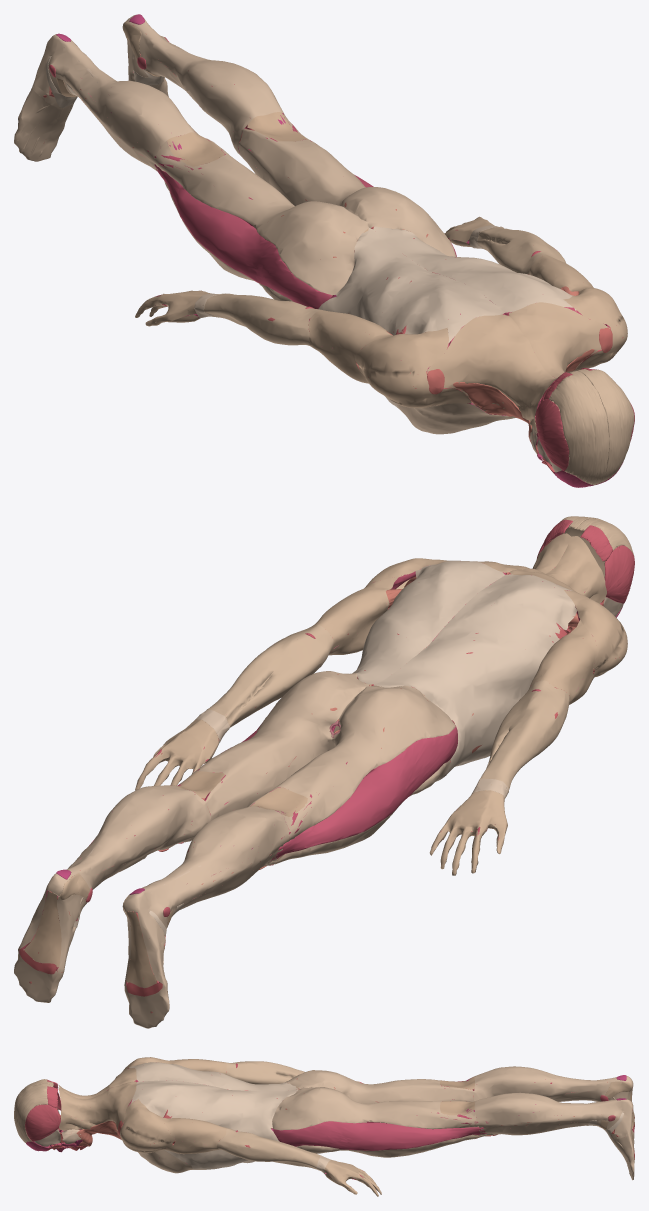
File: muscular.glb
3 renders of one model, top to bottom at view 1: azimuth 30°, elevation 25°; view 2: azimuth 150°, elevation 25°; view 3: azimuth 270°, elevation 25°, orthographic. The views are drawn at different scales.
Parts seen in each view (by area): view 1: 右侧阔筋膜, 右侧小腿筋膜, 右侧腹壁包被筋膜, 左侧阔筋膜, 左侧小腿筋膜, 右侧颈筋膜浅层, 右侧髂胫束, 右侧三角肌筋膜, 左侧腹壁包被筋膜, 右侧帽状腱膜, 左侧颈筋膜浅层, 右侧前臂筋膜 (+11 smaller); view 2: 右侧腹壁包被筋膜, 右侧阔筋膜, 右侧小腿筋膜, 左侧小腿筋膜, 左侧阔筋膜, 左侧腹壁包被筋膜, 右侧髂胫束, 左侧前臂筋膜, 右侧前臂筋膜, 左侧臂筋膜, 右侧手背筋膜, 右侧臂筋膜 (+11 smaller); view 3: 左侧腹壁包被筋膜, 左侧阔筋膜, 左侧小腿筋膜, 左侧髂胫束, 右侧小腿筋膜, 右侧阔筋膜, 左侧颈筋膜浅层, 左侧前臂筋膜, 右侧腹壁包被筋膜, 左侧三角肌筋膜, 左侧臂筋膜, 右侧前臂筋膜 (+12 smaller).
Part boxes in pixels (x1,y1,x2,y2): 右侧阔筋膜: (154, 138, 368, 301); 右侧小腿筋膜: (14, 34, 201, 183); 右侧腹壁包被筋膜: (318, 228, 504, 408); 左侧阔筋膜: (238, 114, 455, 256); 左侧小腿筋膜: (126, 14, 284, 154); 右侧颈筋膜浅层: (427, 314, 570, 433); 右侧髂胫束: (154, 164, 332, 308); 右侧三角肌筋膜: (354, 327, 471, 407); 左侧腹壁包被筋膜: (373, 226, 576, 312); 右侧帽状腱膜: (549, 371, 609, 485); 左侧颈筋膜浅层: (509, 302, 609, 378); 右侧前臂筋膜: (204, 293, 321, 345); 右侧腹壁包被筋膜: (374, 574, 577, 781); 右侧阔筋膜: (248, 685, 455, 864); 右侧小腿筋膜: (123, 806, 289, 1028); 左侧小腿筋膜: (14, 785, 211, 1002); 左侧阔筋膜: (178, 671, 368, 842); 左侧腹壁包被筋膜: (353, 560, 504, 684); 右侧髂胫束: (270, 725, 457, 860); 左侧前臂筋膜: (207, 625, 333, 727); 右侧前臂筋膜: (481, 680, 569, 789); 左侧臂筋膜: (309, 575, 403, 655); 右侧手背筋膜: (429, 790, 507, 875); 右侧臂筋膜: (530, 619, 597, 704); 左侧腹壁包被筋膜: (129, 1080, 298, 1169); 左侧阔筋膜: (272, 1087, 479, 1157); 左侧小腿筋膜: (474, 1092, 634, 1180); 左侧髂胫束: (273, 1121, 486, 1150); 右侧小腿筋膜: (474, 1066, 634, 1145); 右侧阔筋膜: (285, 1070, 473, 1103); 左侧颈筋膜浅层: (58, 1081, 136, 1136); 左侧前臂筋膜: (217, 1128, 320, 1169); 右侧腹壁包被筋膜: (129, 1062, 297, 1091); 左侧三角肌筋膜: (116, 1099, 175, 1152); 左侧臂筋膜: (157, 1115, 226, 1154); 右侧前臂筋膜: (226, 1061, 305, 1084).
Bounding box in the file's own units: 0.9887 × 0.396 × 2.51.
